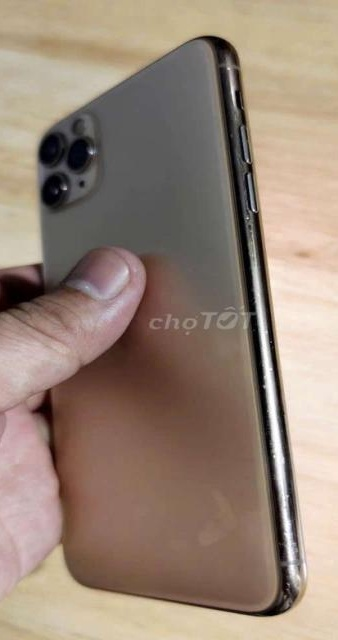scratch: (276, 484, 298, 552), (249, 360, 290, 396), (269, 403, 289, 438), (268, 446, 291, 472), (266, 326, 284, 354), (240, 211, 264, 230), (222, 131, 240, 141)
